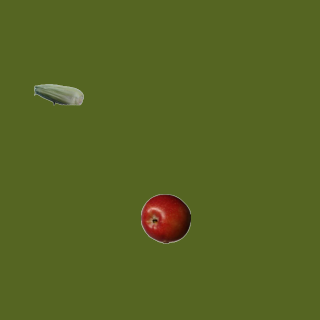Apple Braeburn: (140, 193, 190, 243)
Corn Husk: (33, 69, 83, 119)
